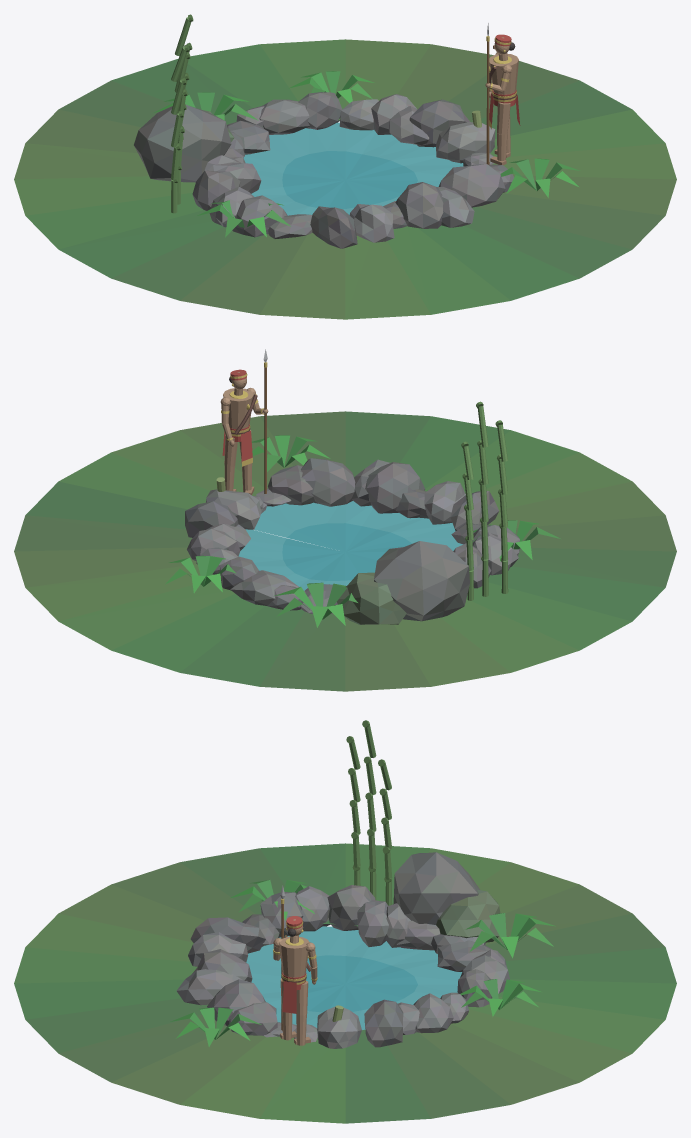
File: spring encounter.gltf
3 views of the same model, one above another, from view 1: azimuth 30°, elevation 25°; view 2: azimuth 150°, elevation 25°; view 3: azimuth 270°, elevation 25° (orthographic).
Visible parts, largest first — view 1: Bikolano_Man_And_Spring; view 2: Bikolano_Man_And_Spring; view 3: Bikolano_Man_And_Spring.
Part boxes in pixels (x1=…): Bikolano_Man_And_Spring: x1=14, y1=14, x2=676, y2=319; Bikolano_Man_And_Spring: x1=14, y1=349, x2=676, y2=691; Bikolano_Man_And_Spring: x1=14, y1=720, x2=676, y2=1123.
Size of the model in its own units: 8.4 by 2.86 by 8.4.
